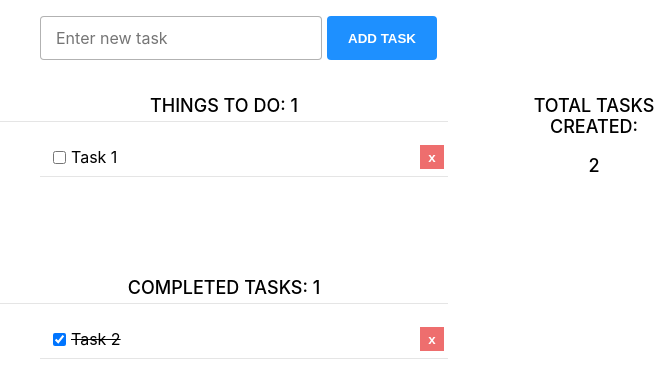
Test: TodoListPage › should delete a task
Click the button with test id "delete-button" in the row of "Task 1".
click(432, 157)  # box 420,145 -> 444,169
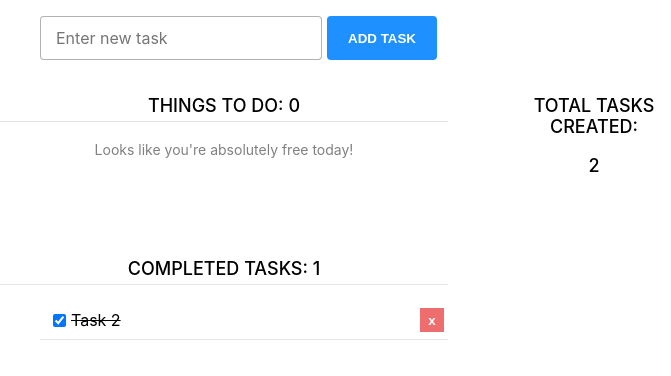
Check: the text "Task 1" is gone
